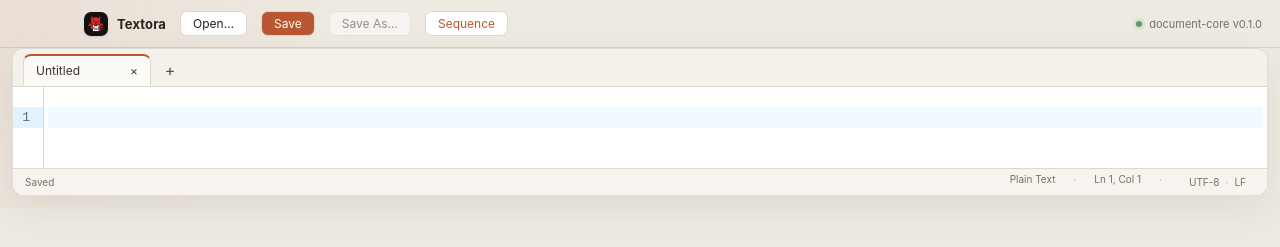
Test: App open flow › reloads a clean open tab when Rust reports an external content change
Click the button with class "open-button" at [214, 24], box [180, 11, 247, 36]
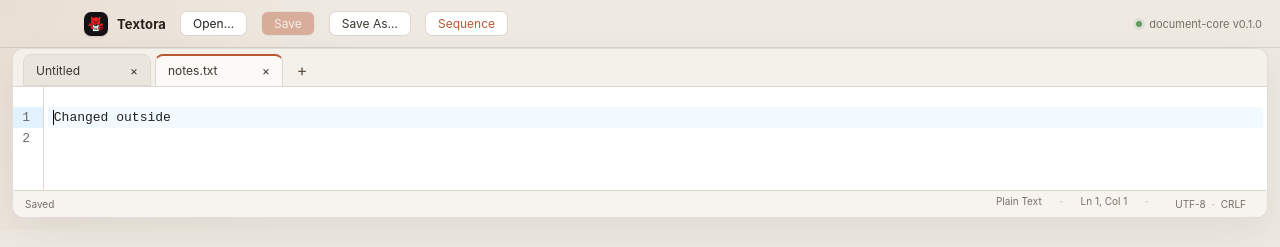
Check: the field with class "cm-content" reads "Changed outside", box [48, 107, 1263, 128]
Check: the footer with class "statusbar" shows "CRLF", box [1166, 195, 1255, 213]
